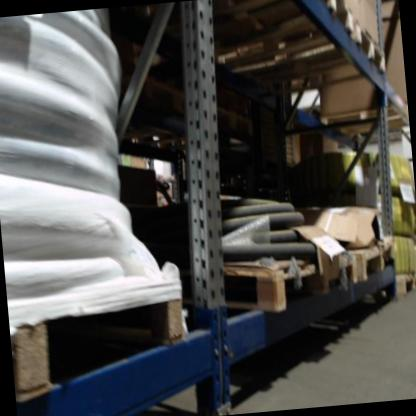pallet: (7, 280, 201, 410), (207, 17, 389, 94), (209, 240, 363, 322), (205, 0, 357, 55), (298, 101, 409, 146), (355, 232, 401, 285), (394, 265, 416, 300)
